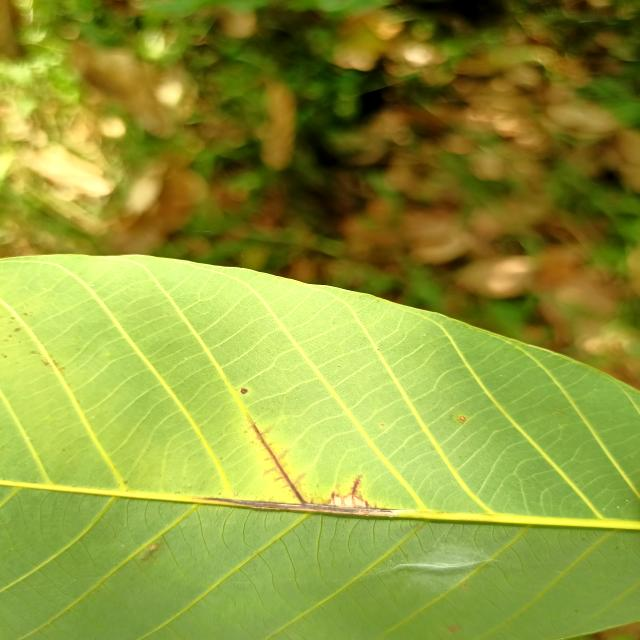Colletotrichum: (240, 388, 248, 394)
Corynespora: (249, 422, 307, 504), (198, 496, 392, 514), (350, 474, 364, 494)
Leaf-Blight: (330, 496, 365, 507)
